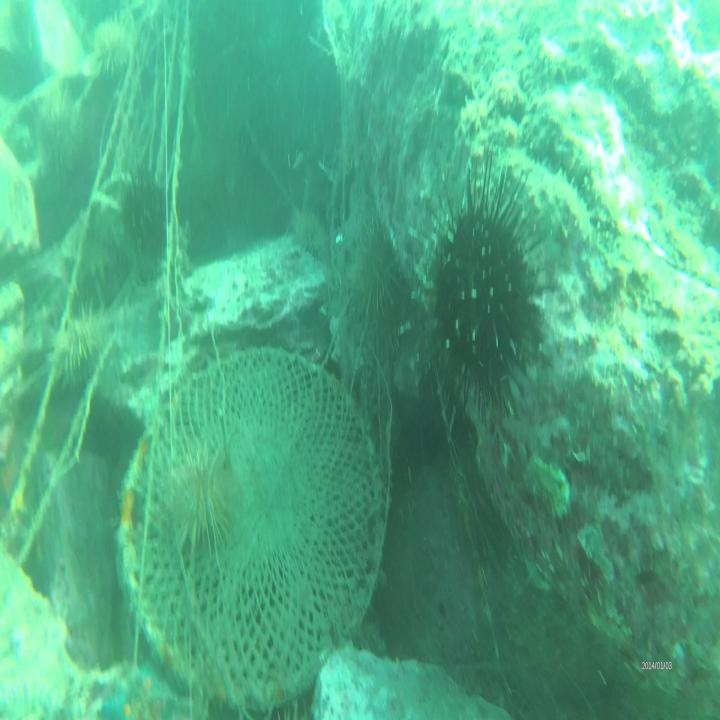echinus: (437, 173, 540, 377), (170, 450, 235, 542), (351, 225, 402, 324), (56, 306, 105, 383), (38, 91, 85, 171), (123, 173, 165, 244), (91, 18, 133, 77)
holothurian: (526, 107, 620, 237), (498, 145, 592, 249)
starfish: (134, 659, 168, 720), (99, 681, 143, 720), (1, 452, 26, 508)
